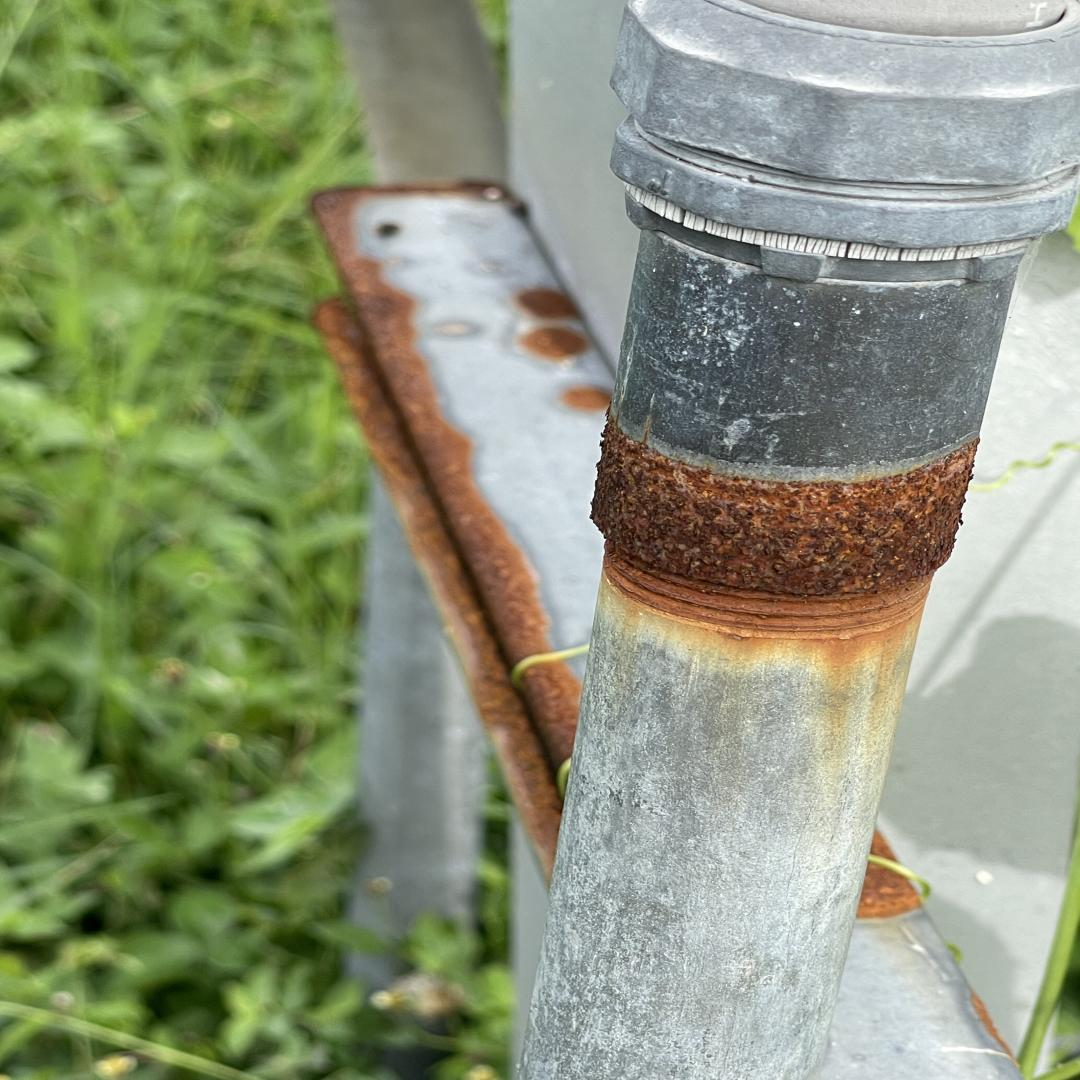Metal: (515, 0, 1080, 1080)
Metal corroido: (583, 415, 979, 666)
